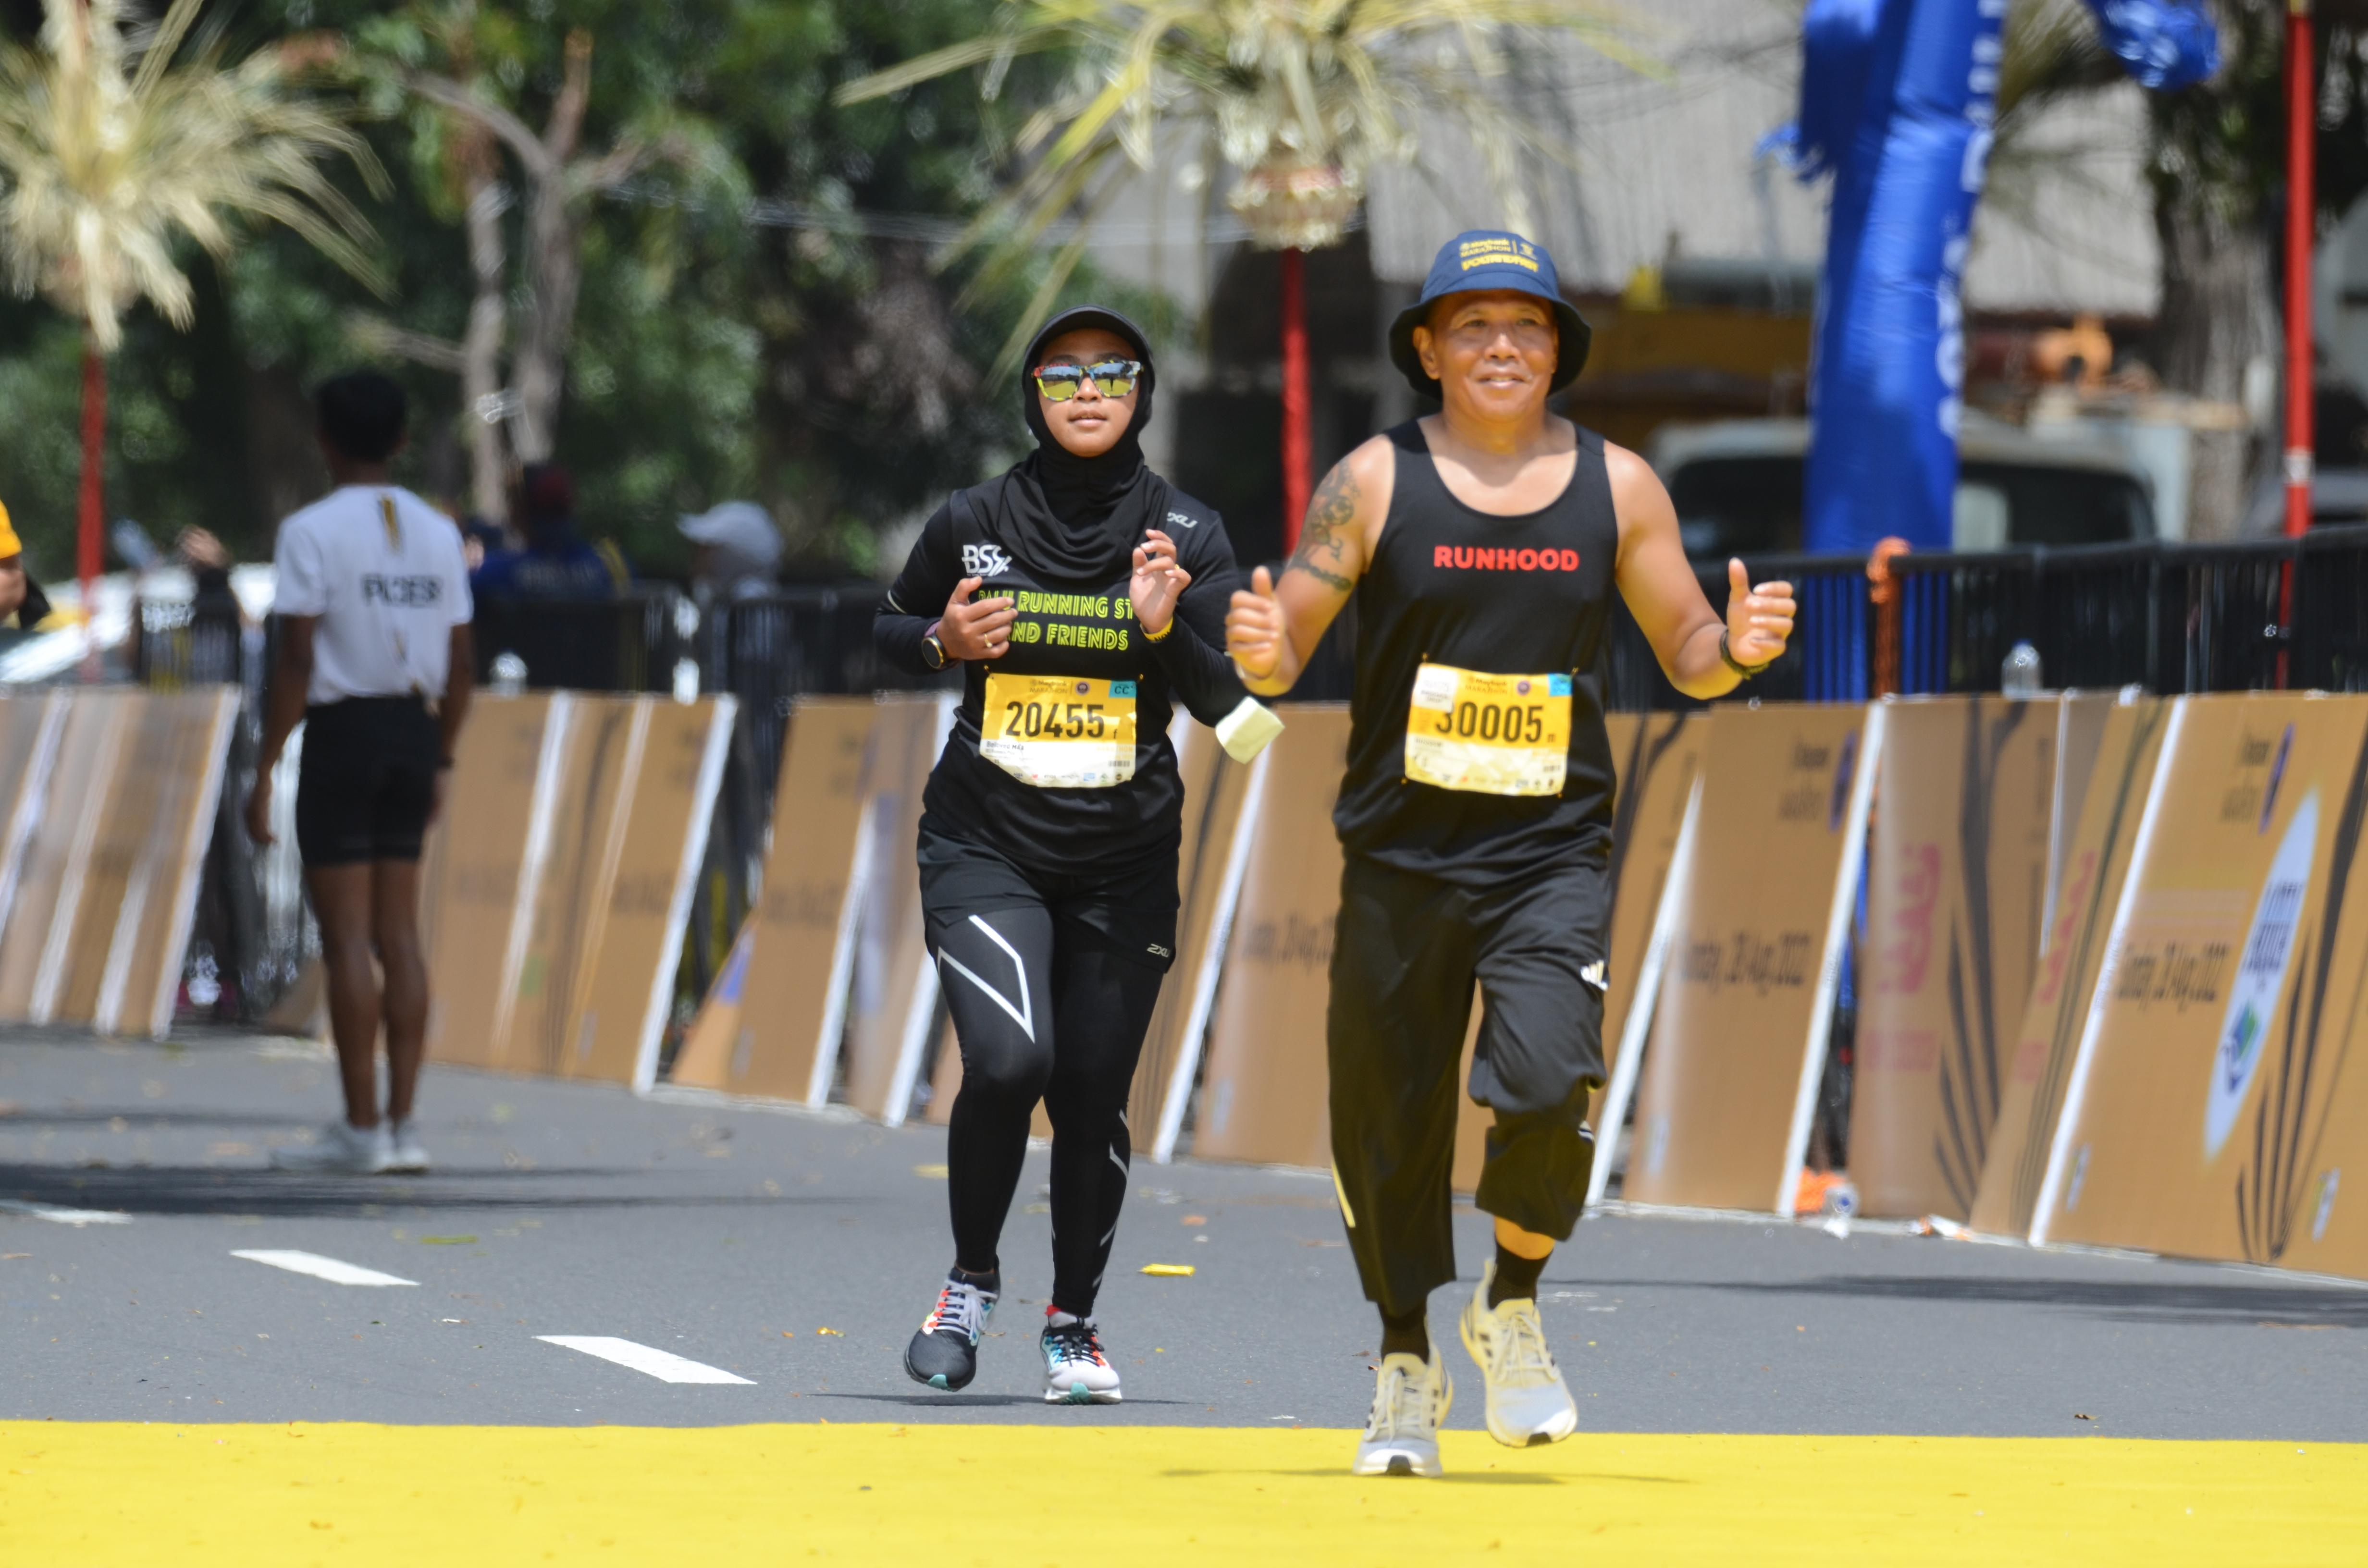bib: (1400, 658, 1572, 803), (982, 672, 1138, 787)
